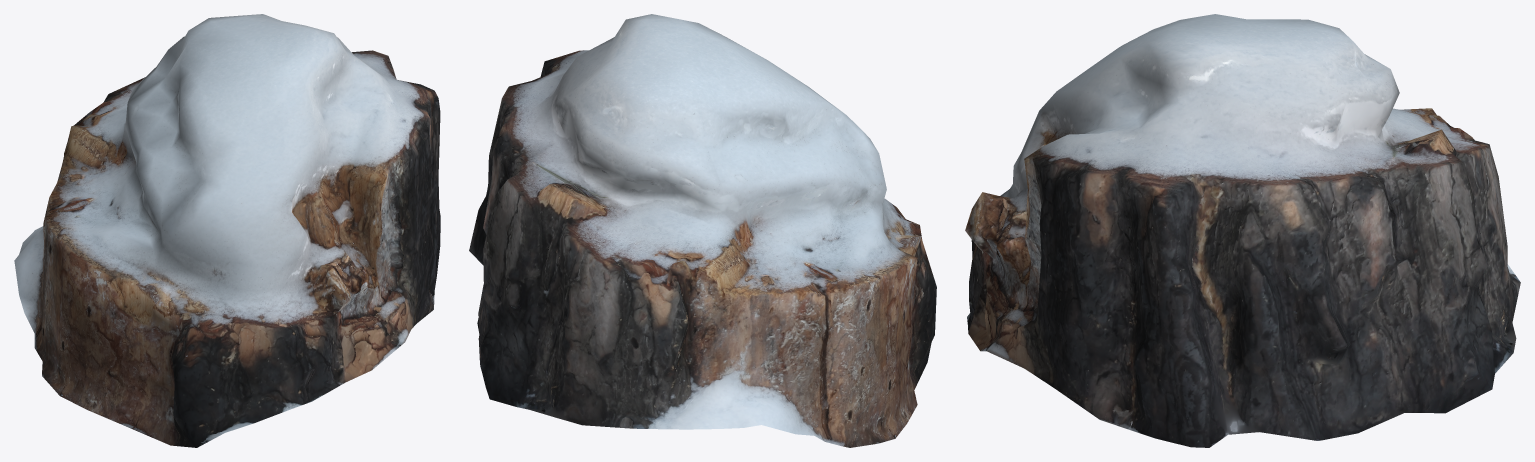
File: Forest_stump_9.FBX
3 views of the same model, side by side, from view 1: azimuth 30°, elevation 25°; view 2: azimuth 150°, elevation 25°; view 3: azimuth 270°, elevation 25° (orthographic). The views are drawn at different scales.
Visible parts, largest first — view 1: Forest_stump_9; view 2: Forest_stump_9; view 3: Forest_stump_9.
Boxes of the visible parts, x1,y1,x2,y2 form: Forest_stump_9: [14, 14, 440, 447]; Forest_stump_9: [469, 14, 936, 447]; Forest_stump_9: [965, 14, 1520, 447].
Bounding box in the file's own units: 1.09 × 0.9424 × 1.17.
Materials: 1 (1 with a texture image).
